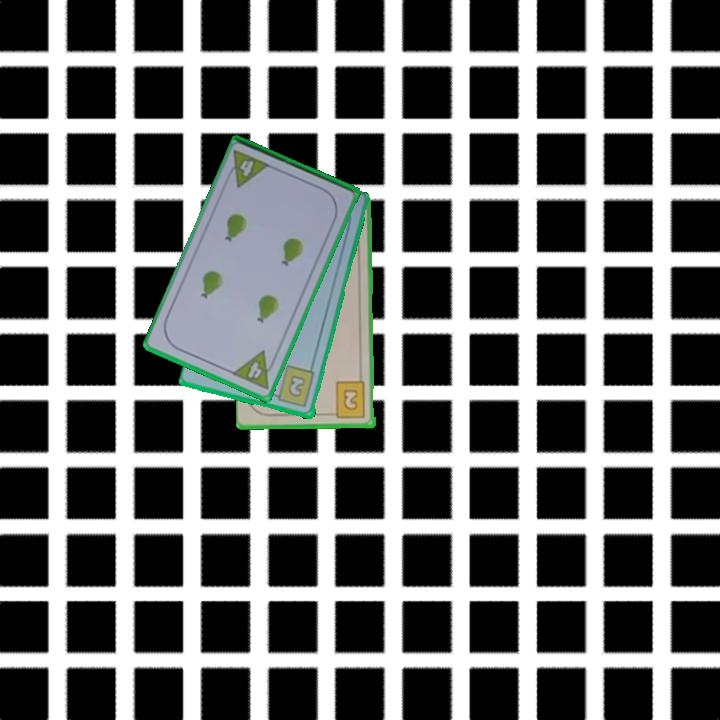2b: (269, 362, 318, 410), (327, 379, 368, 421)
4p: (229, 347, 280, 392), (222, 147, 273, 190)
